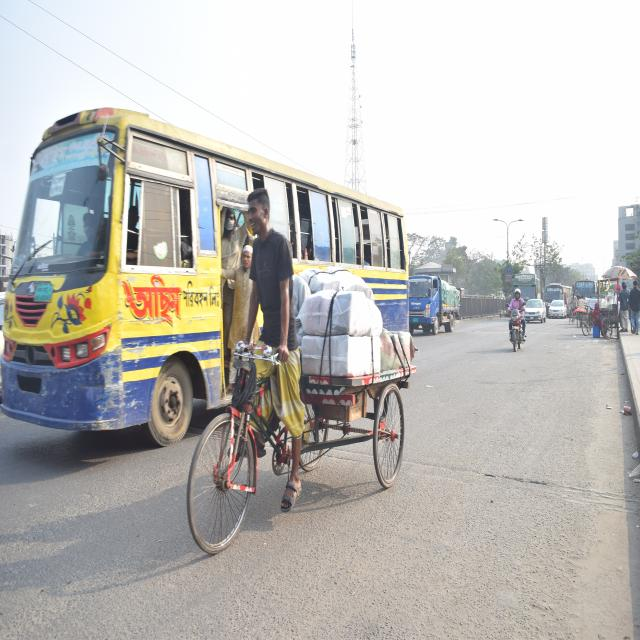bus: (4, 100, 412, 480), (510, 272, 540, 304), (545, 282, 572, 312), (575, 278, 602, 303)
car: (525, 296, 548, 328), (547, 296, 567, 319)
motorbike: (505, 294, 526, 353)
pickup-van: (408, 266, 462, 334)
